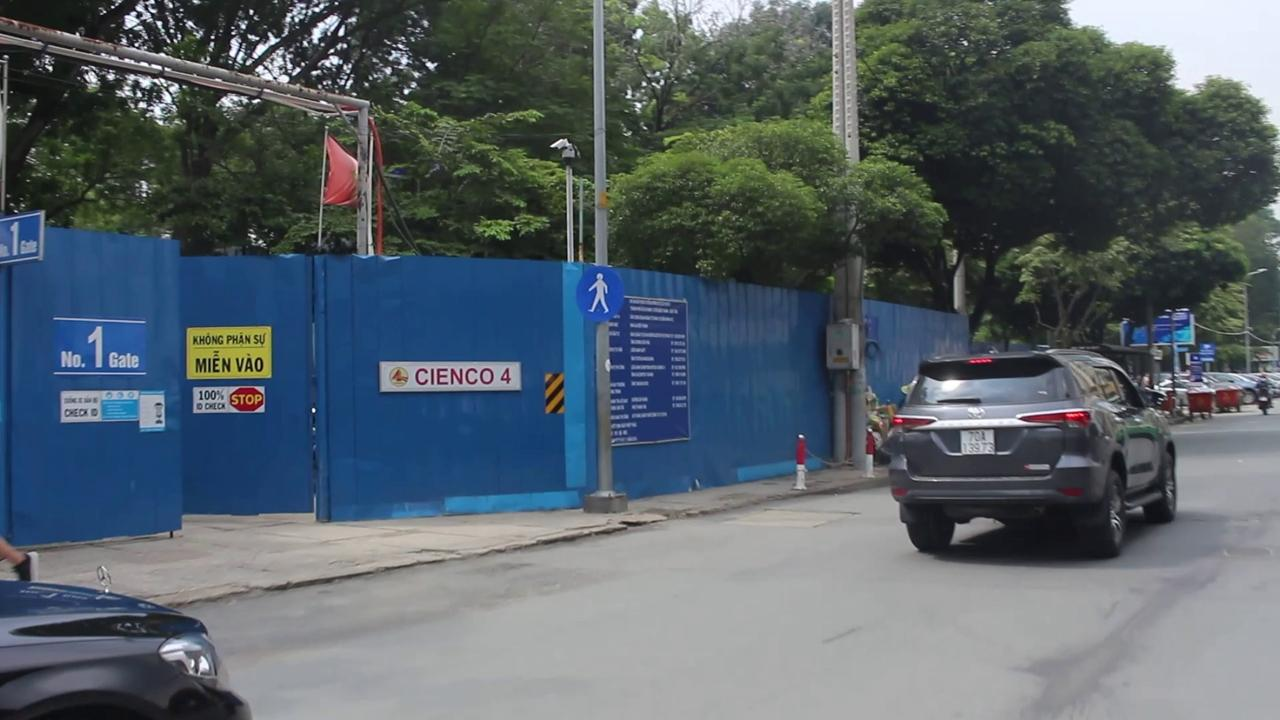P.123a: (576, 264, 624, 320)
